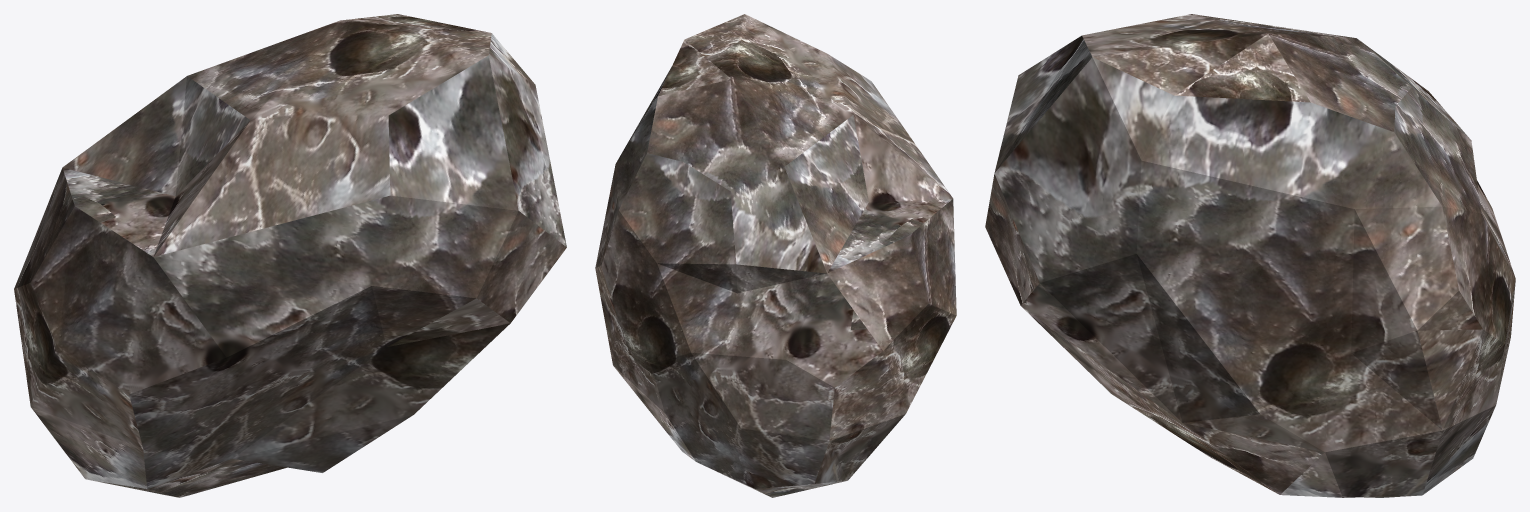
Rendered from badguy.dae.
The picture shows the model from 3 angles, left to right: view 1: azimuth 30°, elevation 25°; view 2: azimuth 150°, elevation 25°; view 3: azimuth 270°, elevation 25°; orthographic projection. The views are drawn at different scales.
Parts seen in each view (by area): view 1: Icosphere; view 2: Icosphere; view 3: Icosphere.
Part boxes in pixels (x1,y1,x2,y2): Icosphere: [14, 14, 566, 497]; Icosphere: [595, 14, 956, 497]; Icosphere: [985, 14, 1515, 497].
Size of the model in its own units: 1.8 by 1.82 by 2.01.
Materials: 1 (1 with a texture image).
